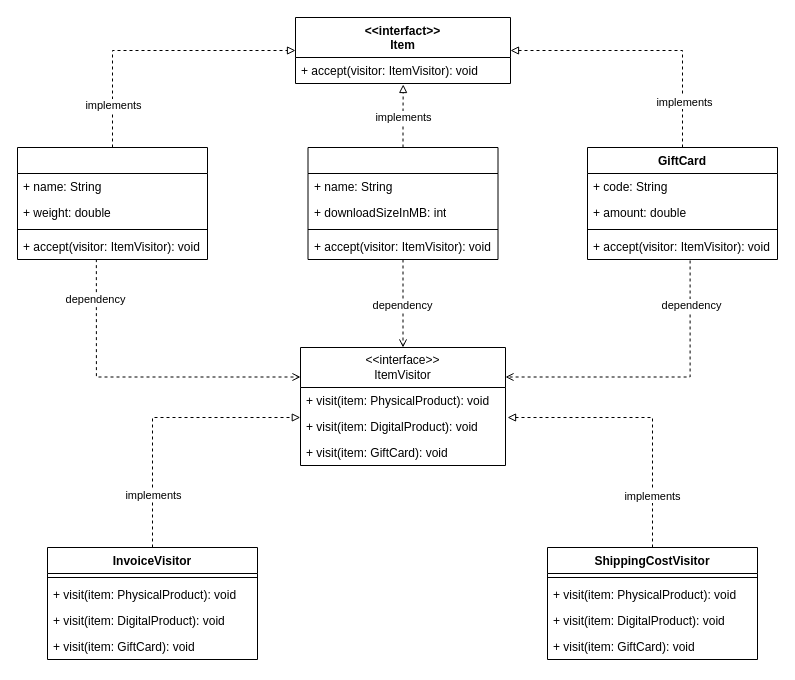
Image size: 795x680. Some labels were removed from this diagram. The box of each missing label's shape, as (x1, y1, x2, y2) in pixels:
DigitalProduct: (307, 146, 498, 260)
PhysicalProduct: (16, 146, 208, 260)
